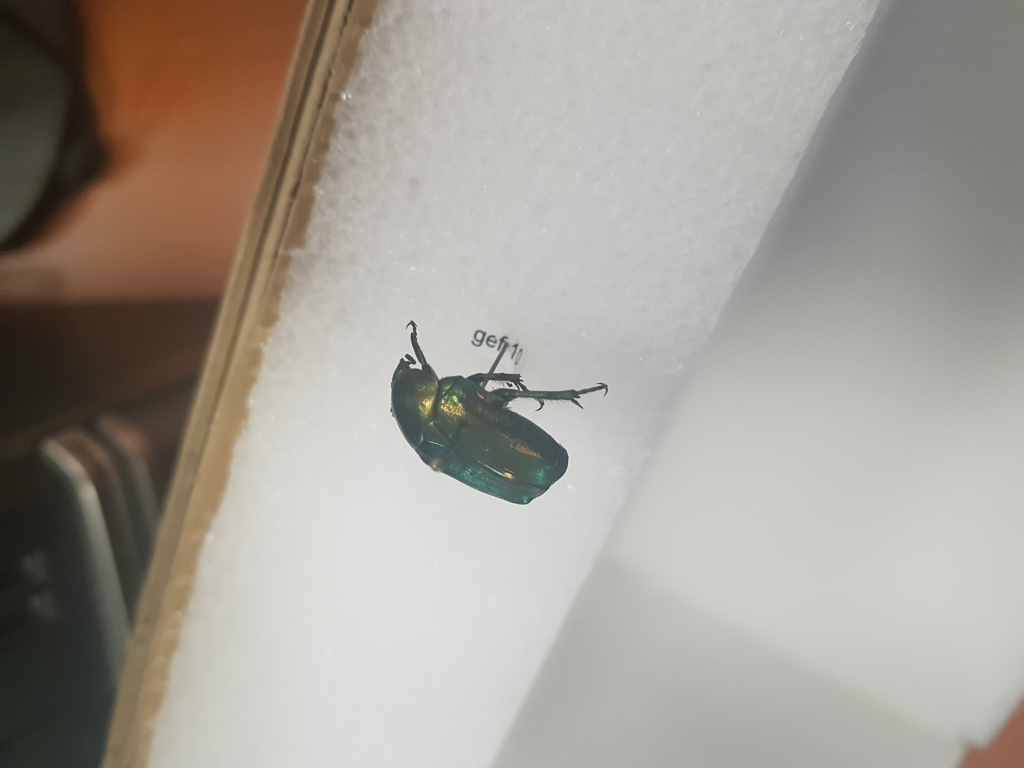Cetonia_aurata: (365, 317, 609, 507)
